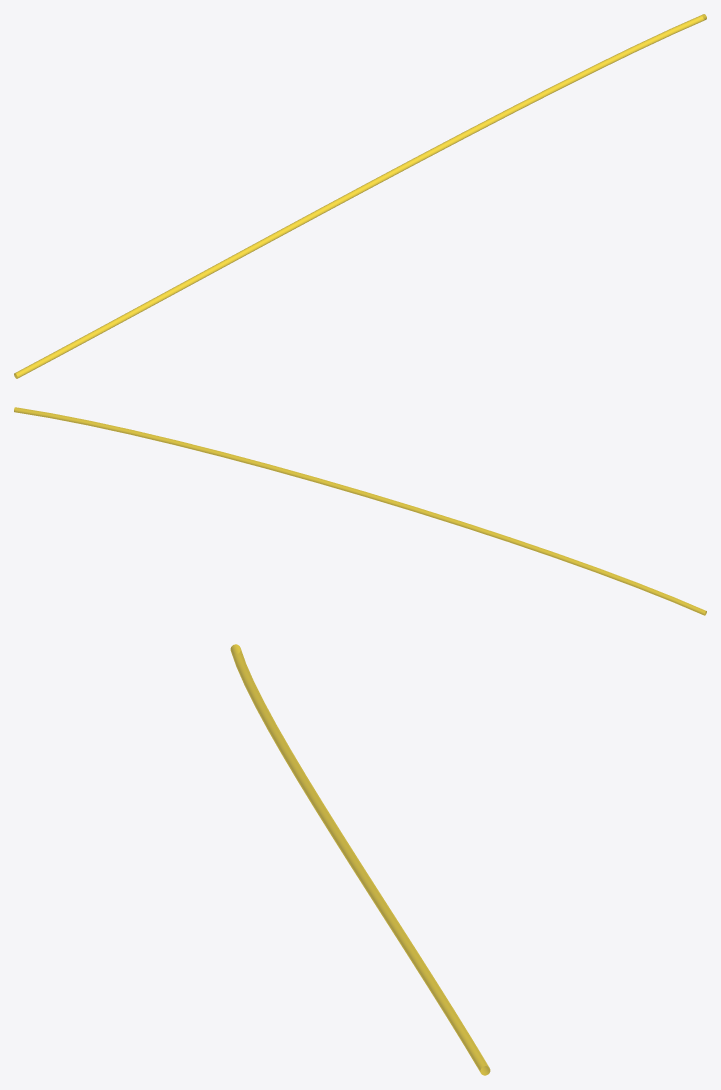
Rendered from Event_84804159_track_100.fbx.
The picture shows the model from 3 angles, top to bottom: view 1: azimuth 30°, elevation 25°; view 2: azimuth 150°, elevation 25°; view 3: azimuth 270°, elevation 25°; orthographic projection. The views are drawn at different scales.
Visible parts, largest first — view 1: Model; view 2: Model; view 3: Model.
Part boxes in pixels (box(x1,y1,x2,y2)): Model: box(14, 14, 706, 378); Model: box(14, 407, 706, 615); Model: box(230, 644, 490, 1075).
Size of the model in its own units: 5.63 by 0.8607 by 1.01.
